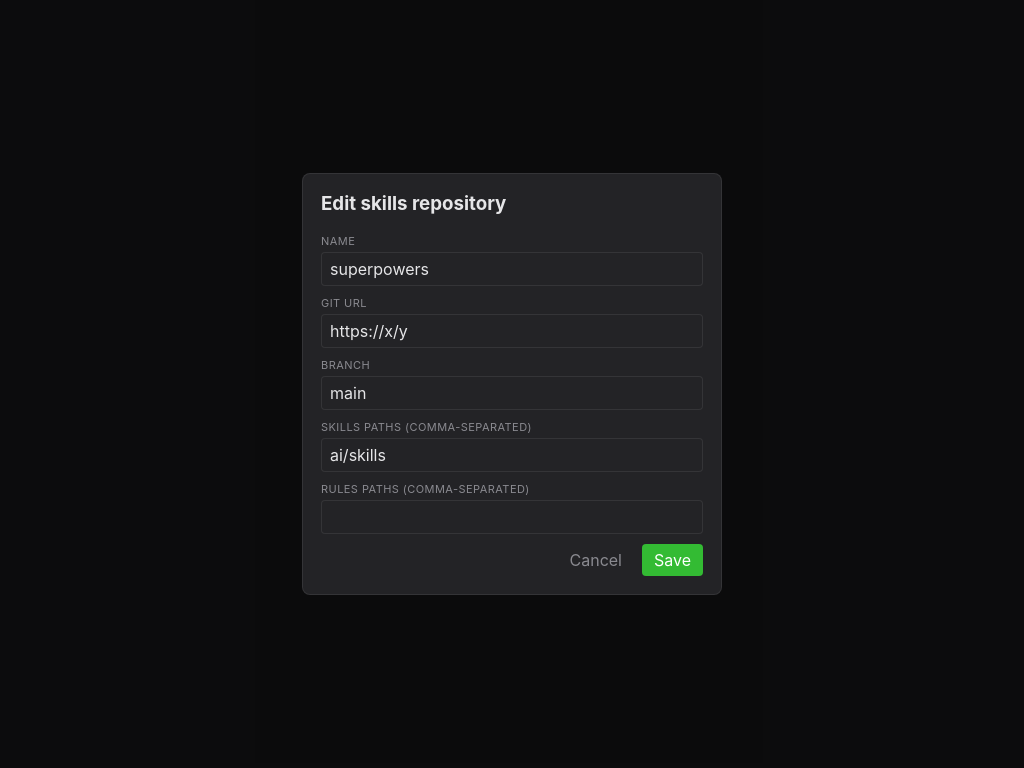
Test: EditSkillsRepoModal › renders path blockers on a 409 and keeps the modal open
Click the button "Save": (672, 560) [642,544,703,576]
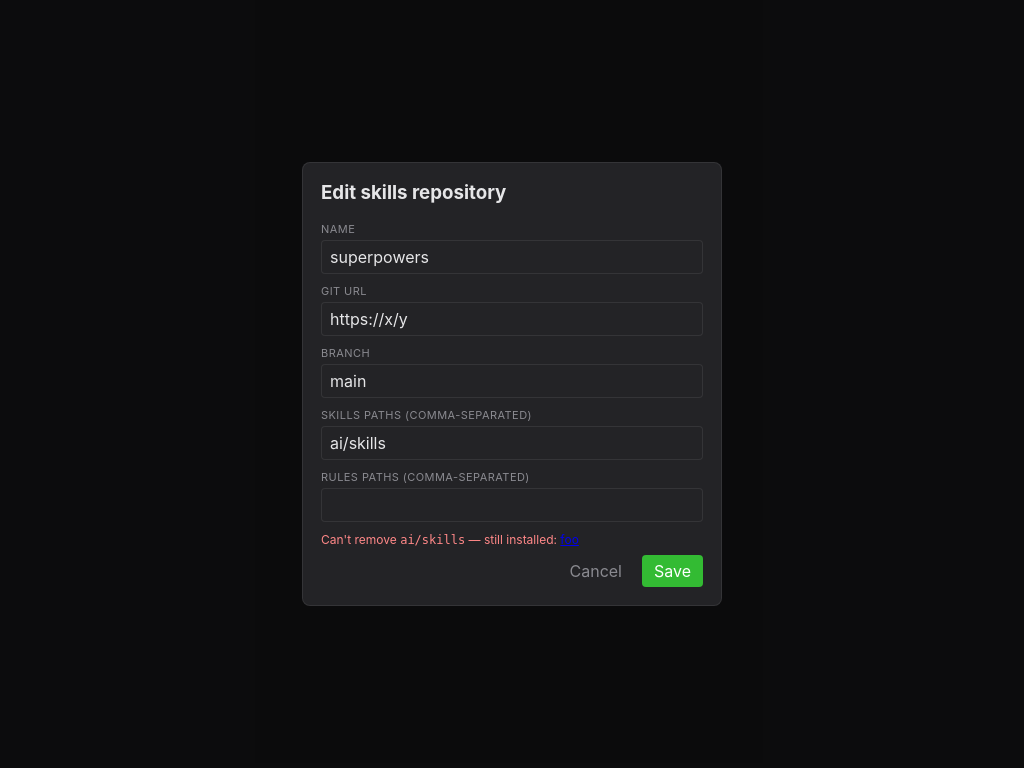
Expected: the text "Can't remove ai/skills — still installed: foo" is shown, [321,532,579,547]
